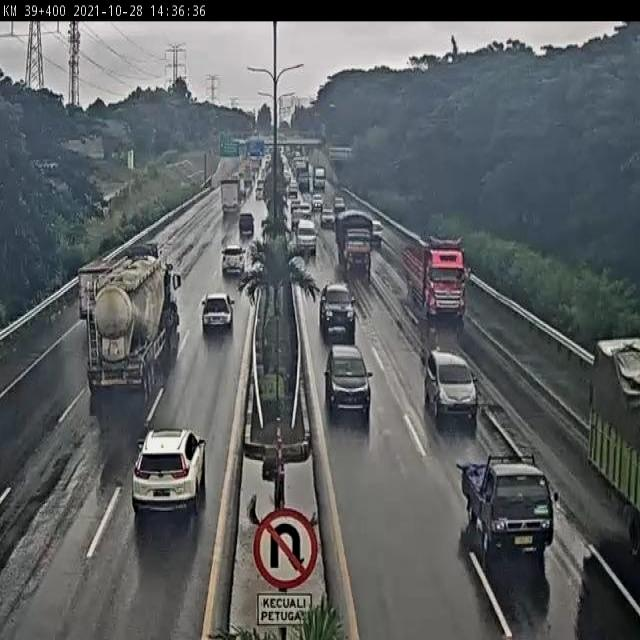Car: (132, 426, 208, 526), (424, 349, 479, 433), (324, 344, 372, 423), (319, 281, 357, 342), (198, 294, 234, 336), (293, 218, 317, 257), (221, 244, 247, 277), (238, 213, 255, 237), (291, 201, 307, 225), (320, 206, 335, 228), (372, 220, 384, 246), (280, 150, 290, 177), (312, 193, 324, 211), (334, 196, 346, 214), (260, 151, 270, 169), (287, 184, 298, 200), (256, 178, 264, 197), (266, 144, 275, 160), (294, 150, 301, 160)
Truck: (70, 228, 172, 406), (455, 448, 563, 572), (401, 236, 468, 332), (213, 177, 249, 230)
